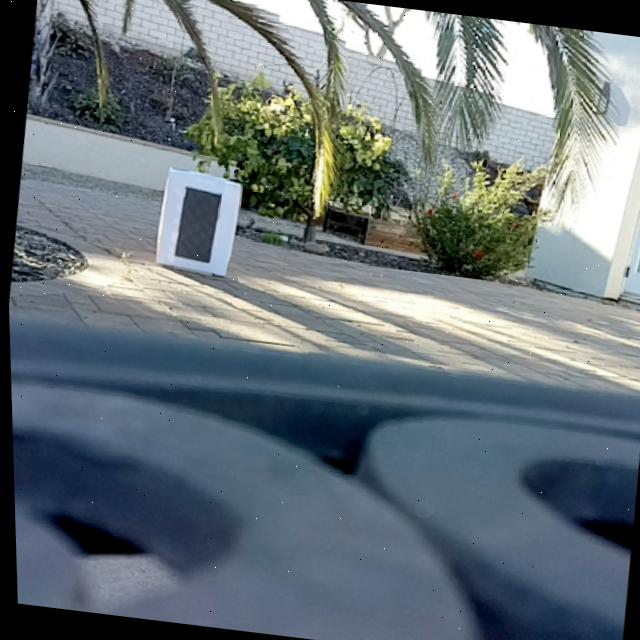led: (171, 186, 220, 262)
